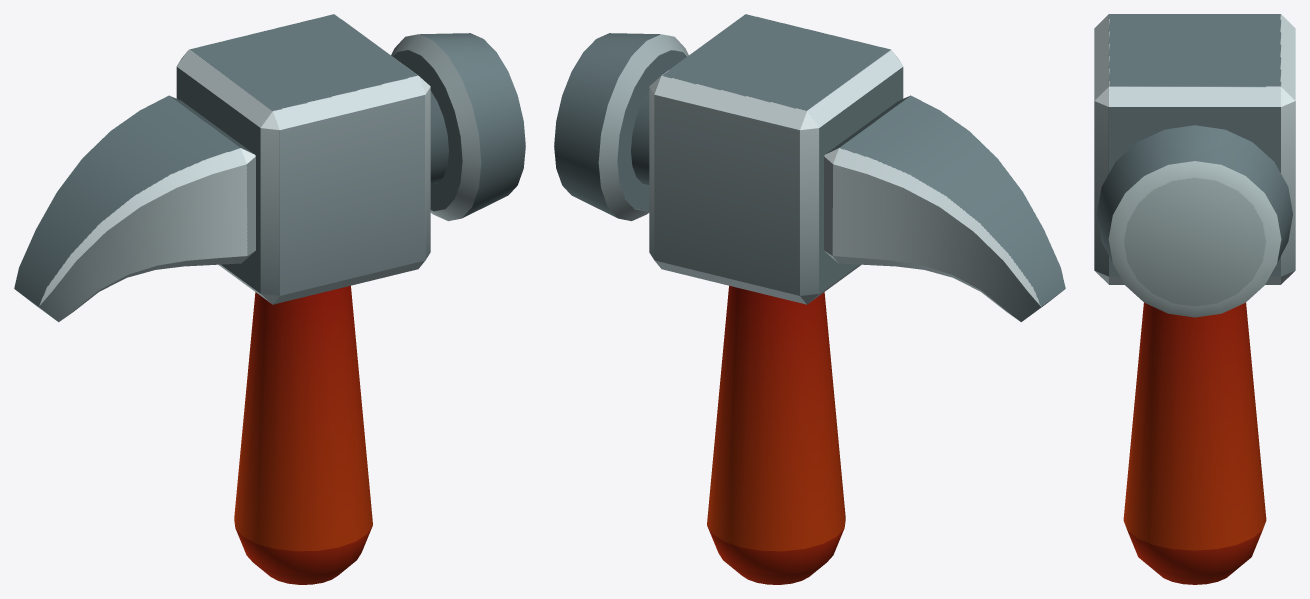
Rendered from Hammer.fbx.
3 renders of one model, left to right at view 1: azimuth 30°, elevation 25°; view 2: azimuth 150°, elevation 25°; view 3: azimuth 270°, elevation 25°, orthographic. The views are drawn at different scales.
Visible parts, largest first — view 1: Hammer; view 2: Hammer; view 3: Hammer.
Boxes of the visible parts, bbox=[...] form: Hammer: bbox=[14, 14, 525, 584]; Hammer: bbox=[554, 14, 1065, 584]; Hammer: bbox=[1094, 14, 1295, 584].
Bounding box in the file's own units: 294 × 308 × 108.
